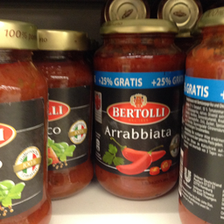tomato_sauce: (91, 17, 186, 200), (35, 28, 95, 200), (175, 6, 224, 216)
